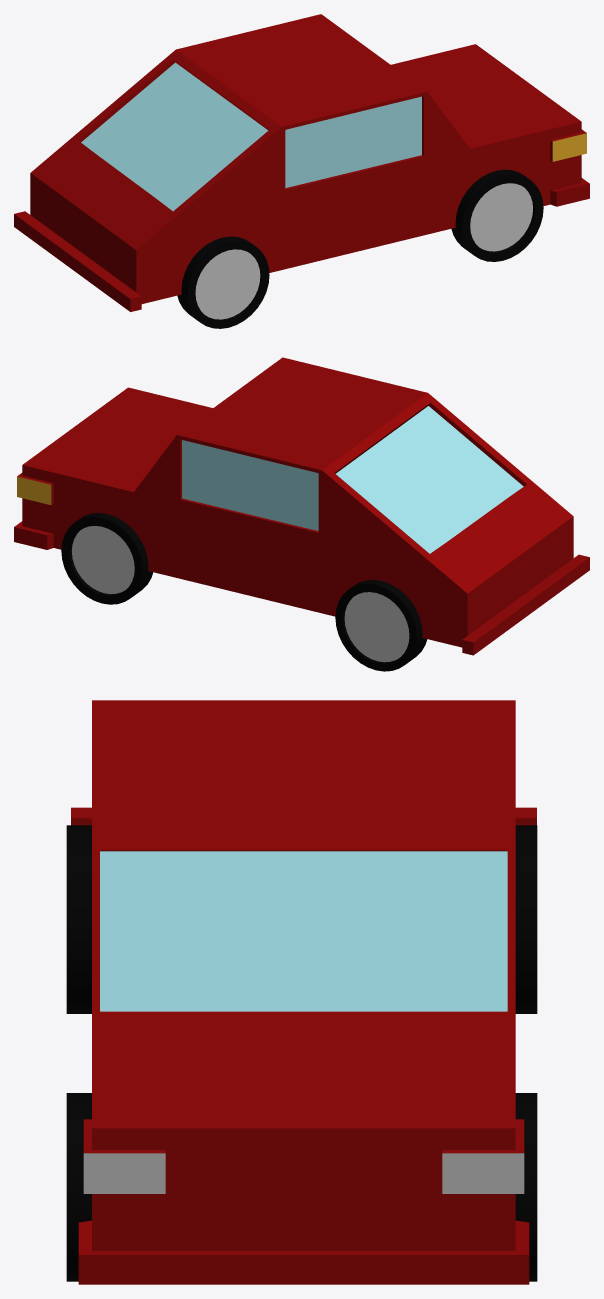
The model's file is Car2.fbx.
3 renders of one model, top to bottom at view 1: azimuth 30°, elevation 25°; view 2: azimuth 150°, elevation 25°; view 3: azimuth 270°, elevation 25°, orthographic. The views are drawn at different scales.
Parts seen in each view (by area): view 1: Cube.2309, Cylinder.738; view 2: Cube.2309, Cylinder.738; view 3: Cube.2309, Cylinder.738.
Part boxes in pixels (bbox=[...]): Cube.2309: bbox=[14, 14, 589, 311]; Cylinder.738: bbox=[177, 169, 543, 328]; Cube.2309: bbox=[14, 357, 589, 655]; Cylinder.738: bbox=[61, 513, 427, 671]; Cube.2309: bbox=[71, 700, 536, 1284]; Cylinder.738: bbox=[66, 825, 537, 1281].
Size of the model in its own units: 1749 by 658 by 773.
